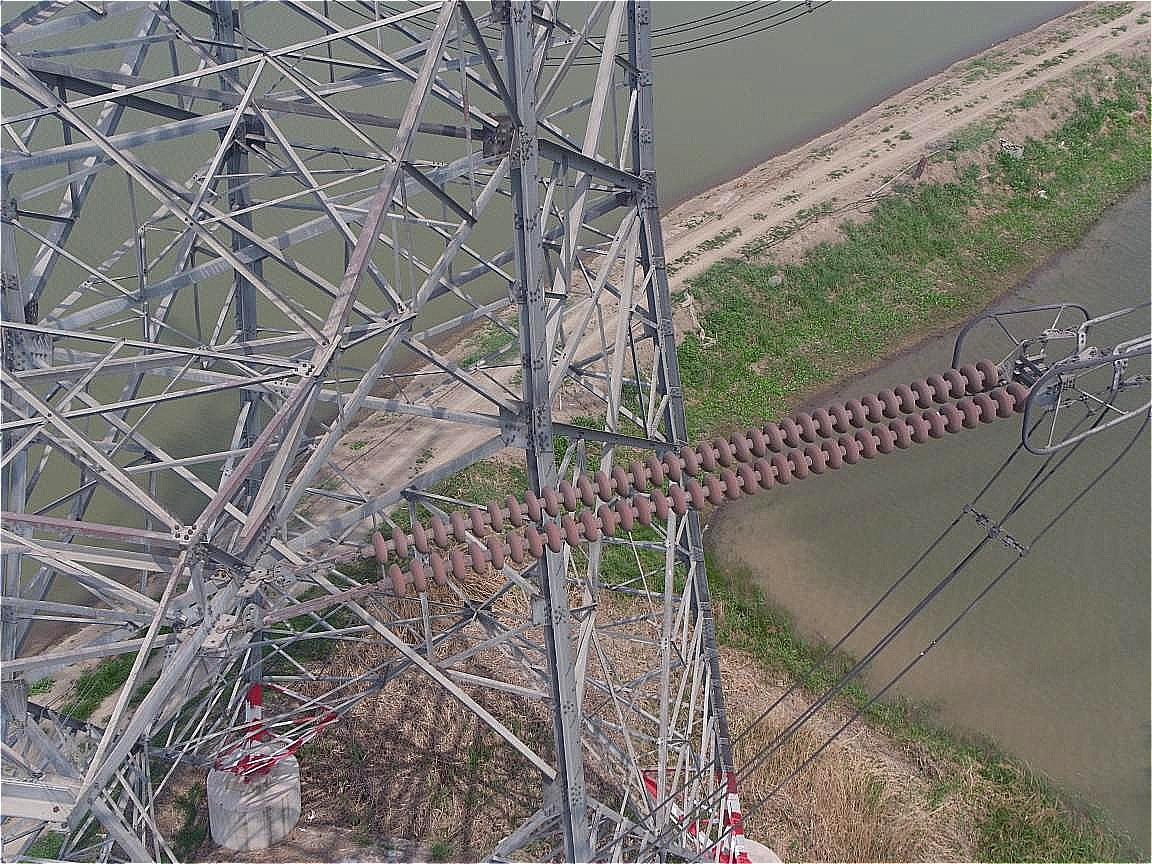insultor1: (370, 359, 1029, 600)
